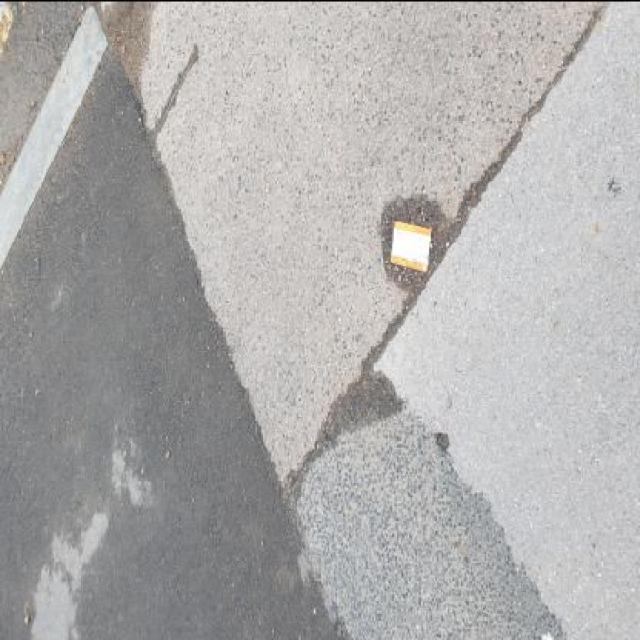plastic: (391, 218, 431, 271)
